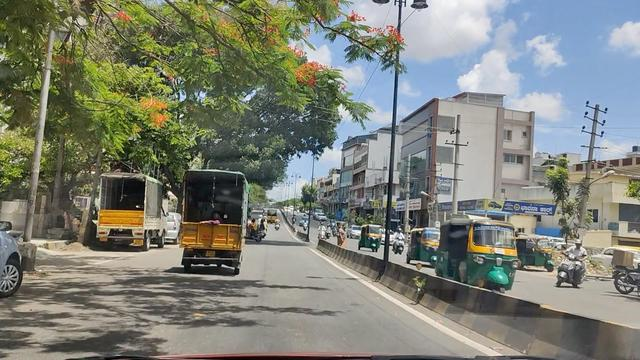HMV: (184, 173, 250, 262), (100, 174, 154, 243)
